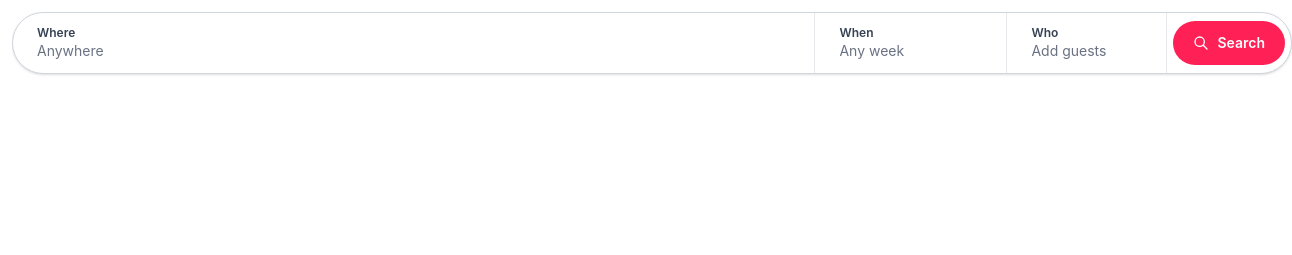
Test case: SearchBar panels › typing in the Where panel updates the pill label
Click the text "Anywhere" at (70, 50), box [37,42,104,59]
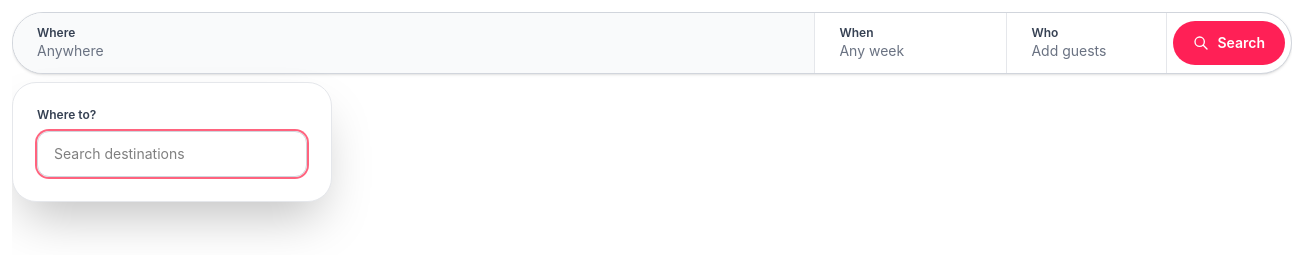
Type "Byron" into the field with placeholder "Search destinations" at (172, 154), box [37,131,307,177]
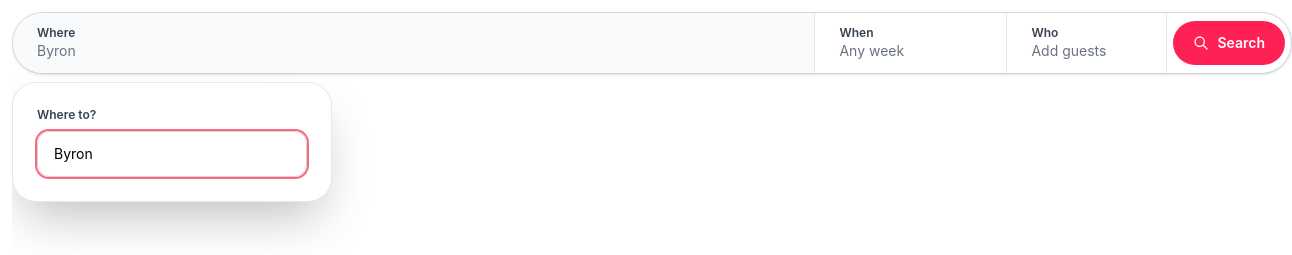
Check: the text "Byron" is shown, box [37,42,76,59]
